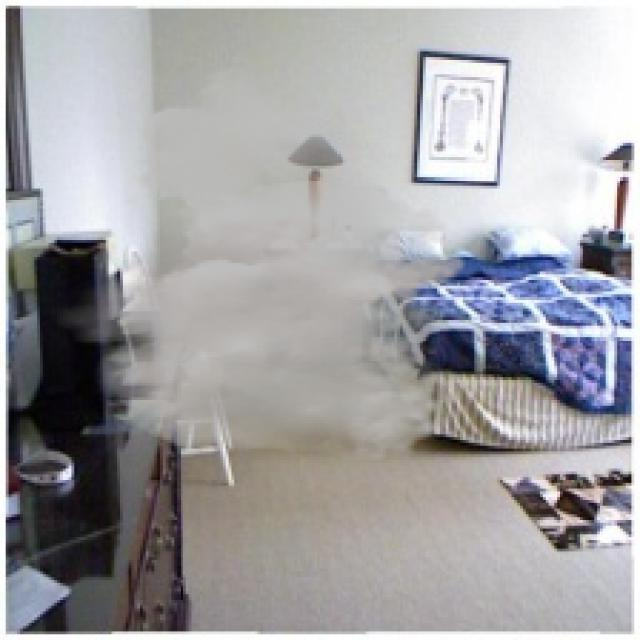Smoke: (49, 54, 468, 463)
